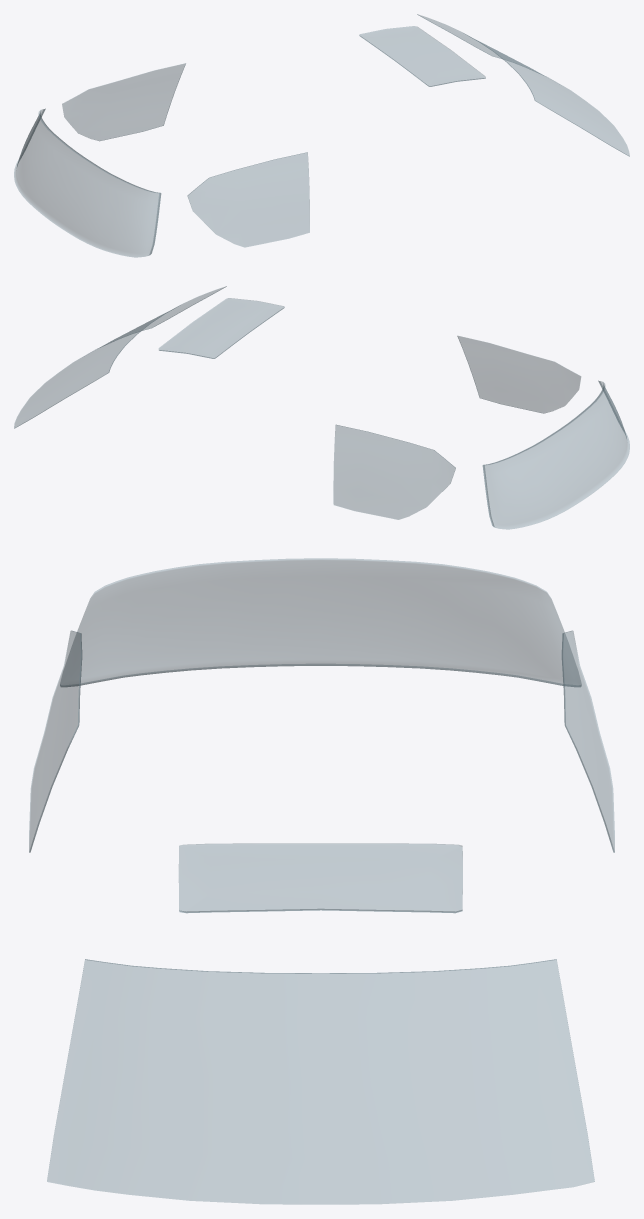
The picture shows the model from 3 angles, top to bottom: view 1: azimuth 30°, elevation 25°; view 2: azimuth 150°, elevation 25°; view 3: azimuth 270°, elevation 25°; orthographic projection. The views are drawn at different scales.
Parts seen in each view (by area): view 1: SM_NissanPatrol_Glass_Ext2; view 2: SM_NissanPatrol_Glass_Ext2; view 3: SM_NissanPatrol_Glass_Ext2.
Part boxes in pixels (x1=…): SM_NissanPatrol_Glass_Ext2: x1=14, y1=14, x2=629, y2=257; SM_NissanPatrol_Glass_Ext2: x1=14, y1=286, x2=629, y2=529; SM_NissanPatrol_Glass_Ext2: x1=29, y1=558, x2=614, y2=1204.
Bounding box in the file's own units: 3.91 × 0.614 × 1.86.
